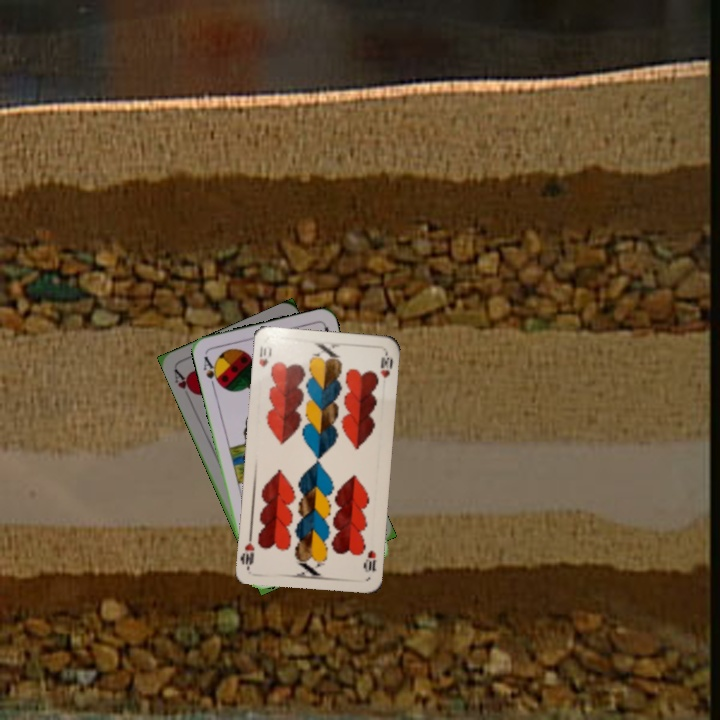H10: (359, 546, 379, 575), (255, 342, 274, 370)
HA: (170, 365, 198, 403)
SA: (199, 352, 223, 391)
